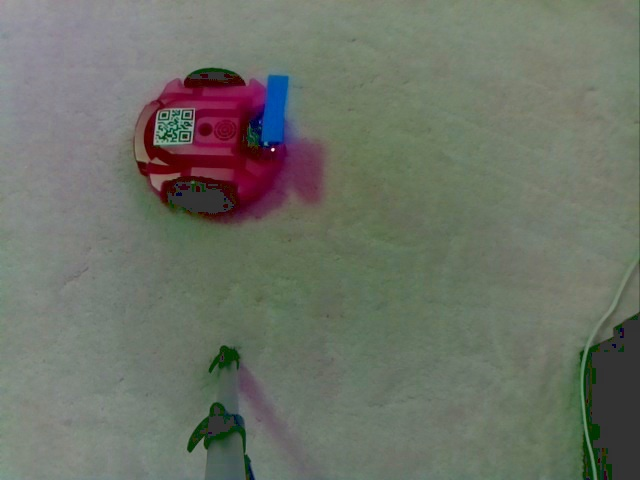board: (234, 67, 300, 161)
chassis: (134, 66, 288, 207)
